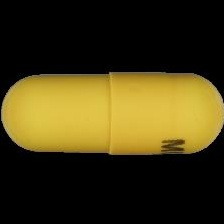50090-0632: (0, 0, 224, 224)
